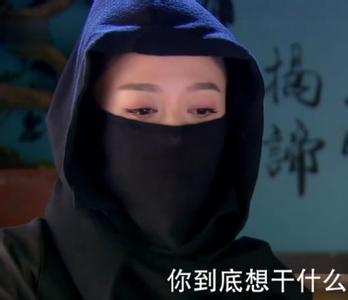OK: (108, 78, 232, 202)
